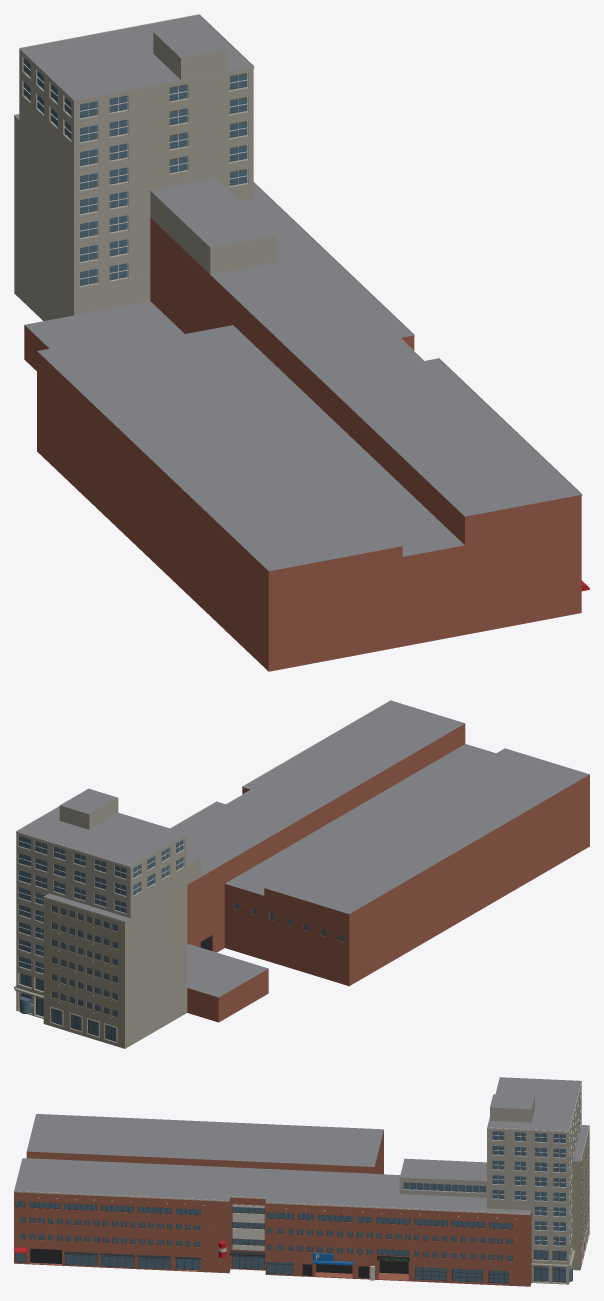
The model's file is heinekenplein-block.glb.
3 renders of one model, top to bottom at view 1: azimuth 30°, elevation 25°; view 2: azimuth 150°, elevation 25°; view 3: azimuth 270°, elevation 25°, orthographic. The views are drawn at different scales.
Visible parts, largest first — view 1: heinekenplein-block; view 2: heinekenplein-block; view 3: heinekenplein-block.
Boxes of the visible parts, x1,y1,x2,y2 form: heinekenplein-block: (14,14,589,671); heinekenplein-block: (14,700,589,1048); heinekenplein-block: (14,1077,589,1286).
Bounding box in the file's own units: 50.47 × 35.11 × 110.
